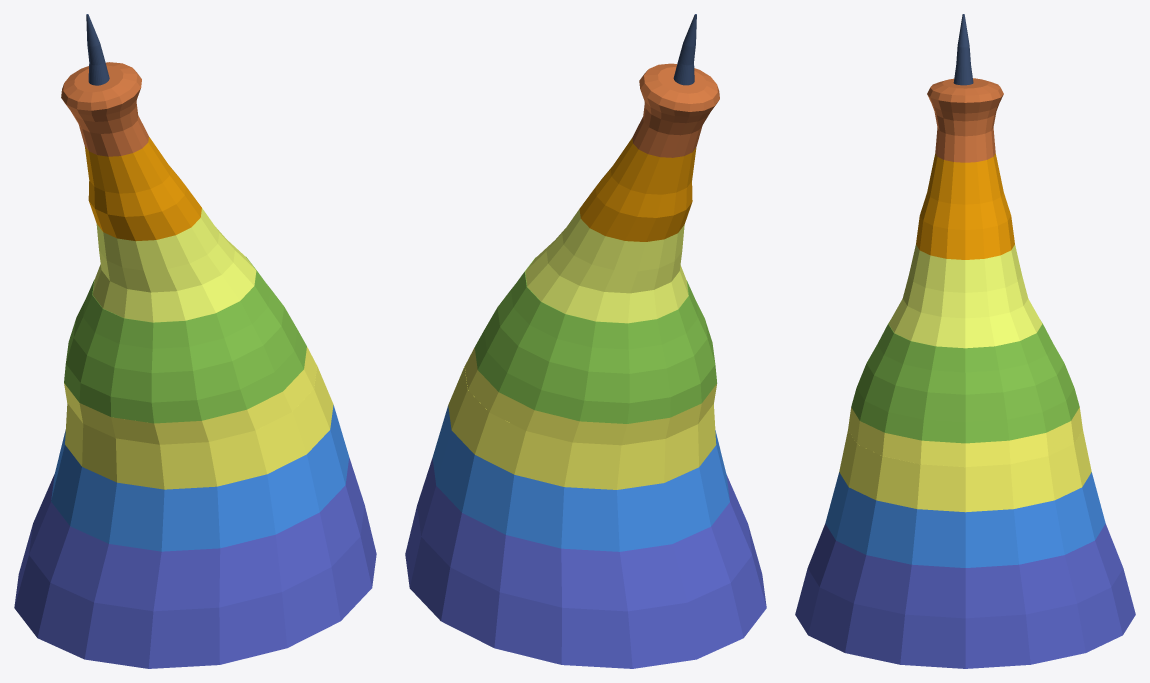
3 views of the same model, side by side, from view 1: azimuth 30°, elevation 25°; view 2: azimuth 150°, elevation 25°; view 3: azimuth 270°, elevation 25° (orthographic). The views are drawn at different scales.
Visible parts, largest first — view 1: 10; view 2: 10; view 3: 10.
Part boxes in pixels (bbox=[...]): 10: bbox=[14, 14, 376, 668]; 10: bbox=[405, 14, 766, 668]; 10: bbox=[795, 14, 1135, 668].
Size of the model in its own units: 2.74 by 5.07 by 2.75.
